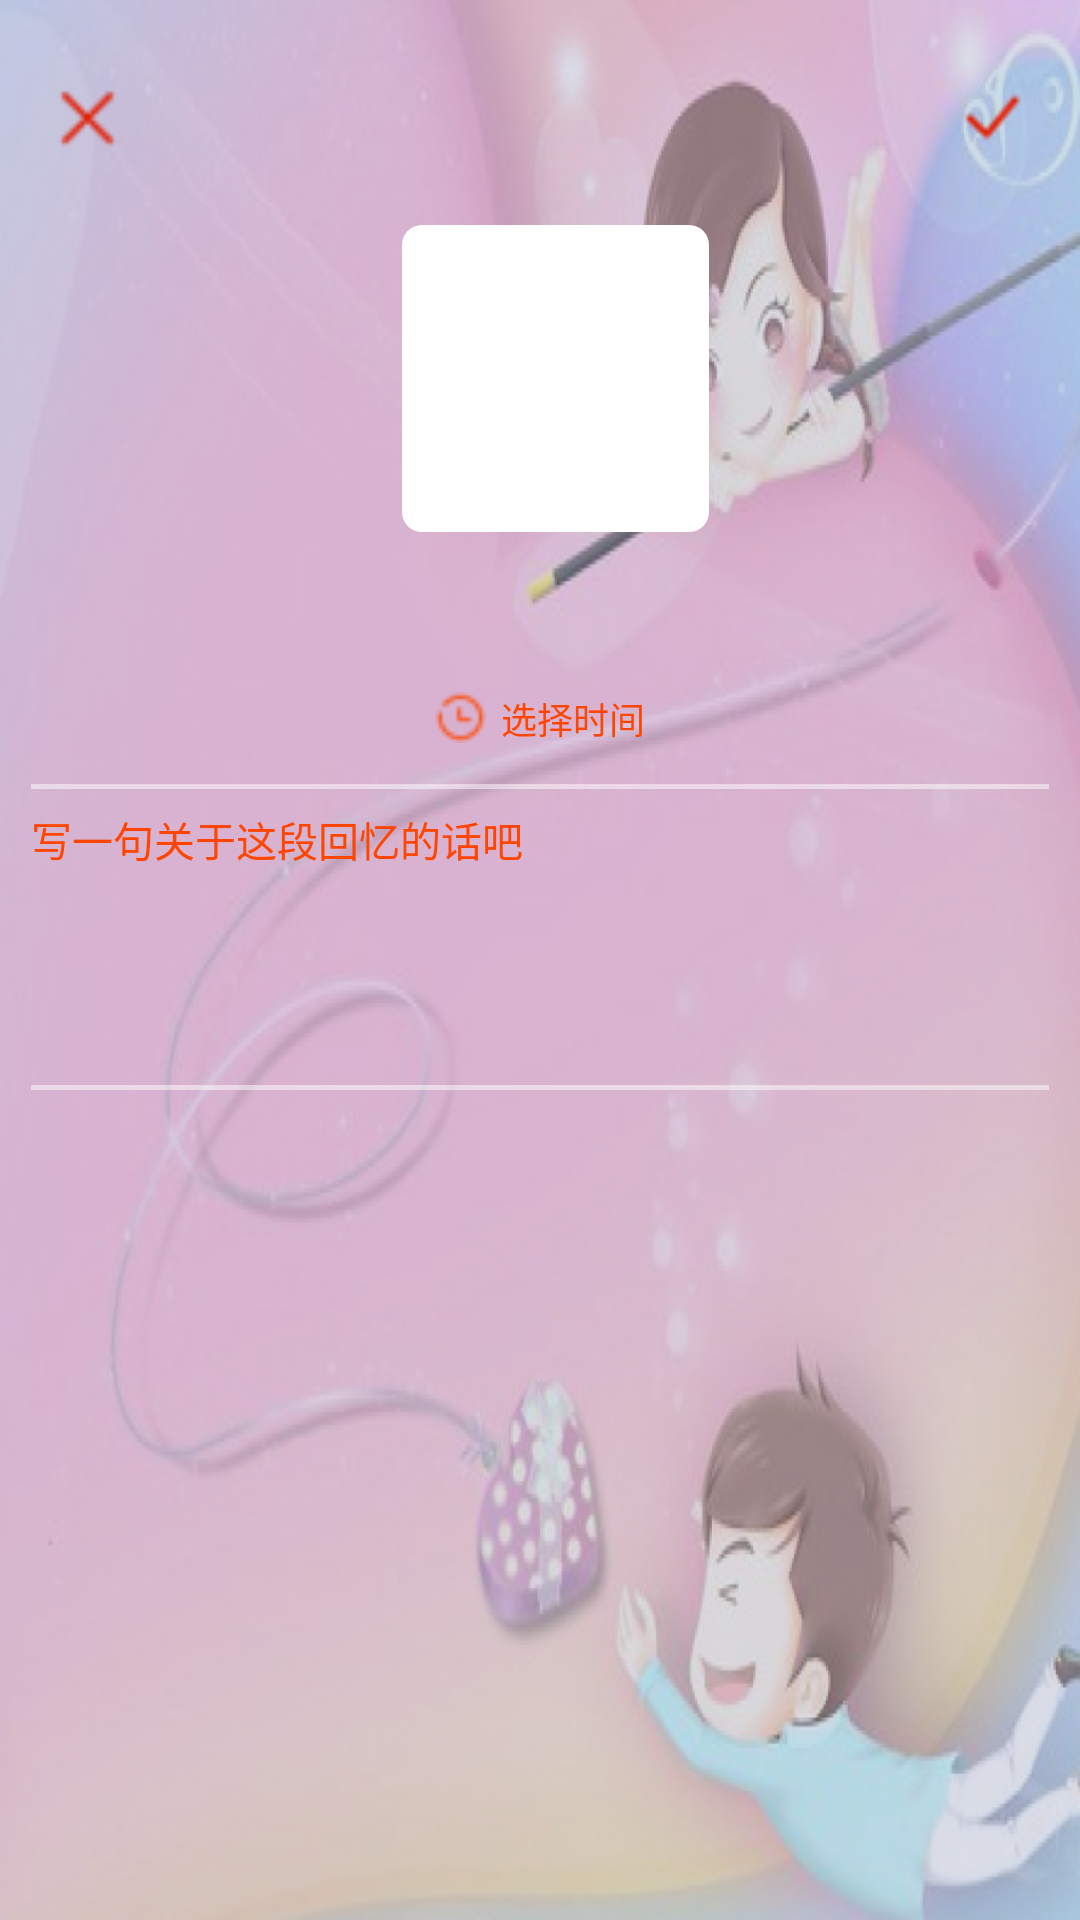

Screen size 1080*1920. Icon name, then its box in pixels as rect(x1, y1, x2, y2):
guanbi: rect(61, 91, 115, 146)
shijian: rect(435, 692, 486, 743)
